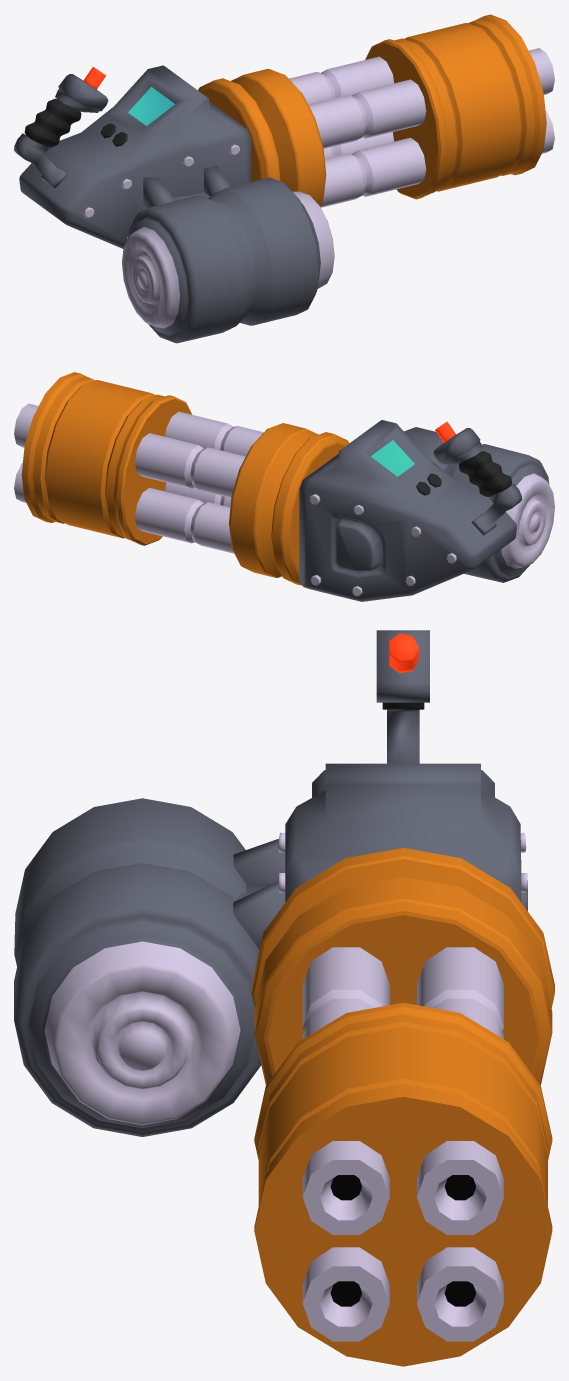
Rendered from Minigun.fbx.
3 views of the same model, one above another, from view 1: azimuth 30°, elevation 25°; view 2: azimuth 150°, elevation 25°; view 3: azimuth 270°, elevation 25° (orthographic). The views are drawn at different scales.
Parts seen in each view (by area): view 1: Cylinder.015, Cylinder.013, Cylinder.014; view 2: Cylinder.015, Cylinder.013, Cylinder.014; view 3: Cylinder.015, Cylinder.013, Cylinder.014.
Part boxes in pixels (bbox=[...]): Cylinder.015: bbox=[14, 65, 334, 343]; Cylinder.013: bbox=[198, 14, 546, 206]; Cylinder.014: bbox=[289, 48, 554, 207]; Cylinder.015: bbox=[299, 420, 554, 601]; Cylinder.013: bbox=[21, 372, 349, 585]; Cylinder.014: bbox=[14, 403, 263, 553]; Cylinder.015: bbox=[14, 630, 527, 1136]; Cylinder.013: bbox=[251, 848, 554, 1366]; Cylinder.014: bbox=[302, 947, 503, 1341].
Bounding box in the file's own units: 537 × 220 × 270.
